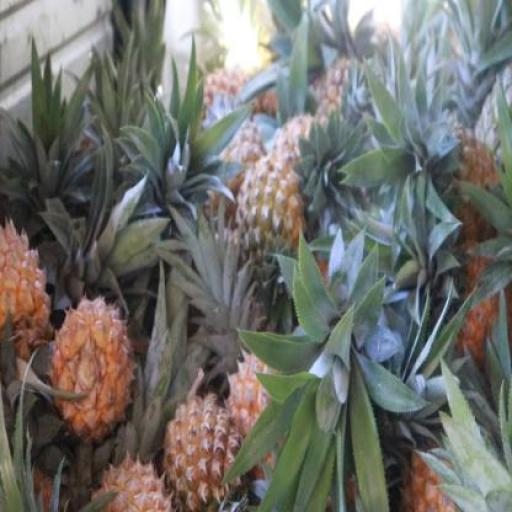Pineapple - v8 v1: (52, 298, 130, 432), (164, 399, 242, 512), (0, 220, 49, 370)
